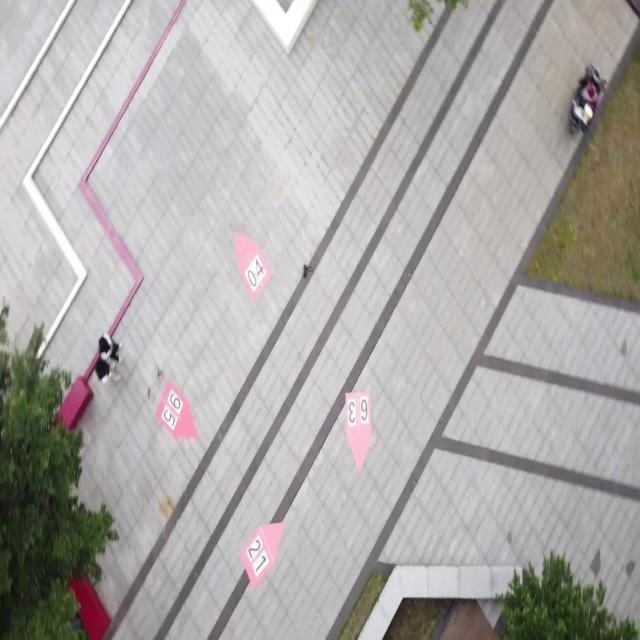-sign-: (150, 354, 200, 452), (229, 219, 280, 303), (340, 380, 380, 478), (236, 520, 294, 587)
